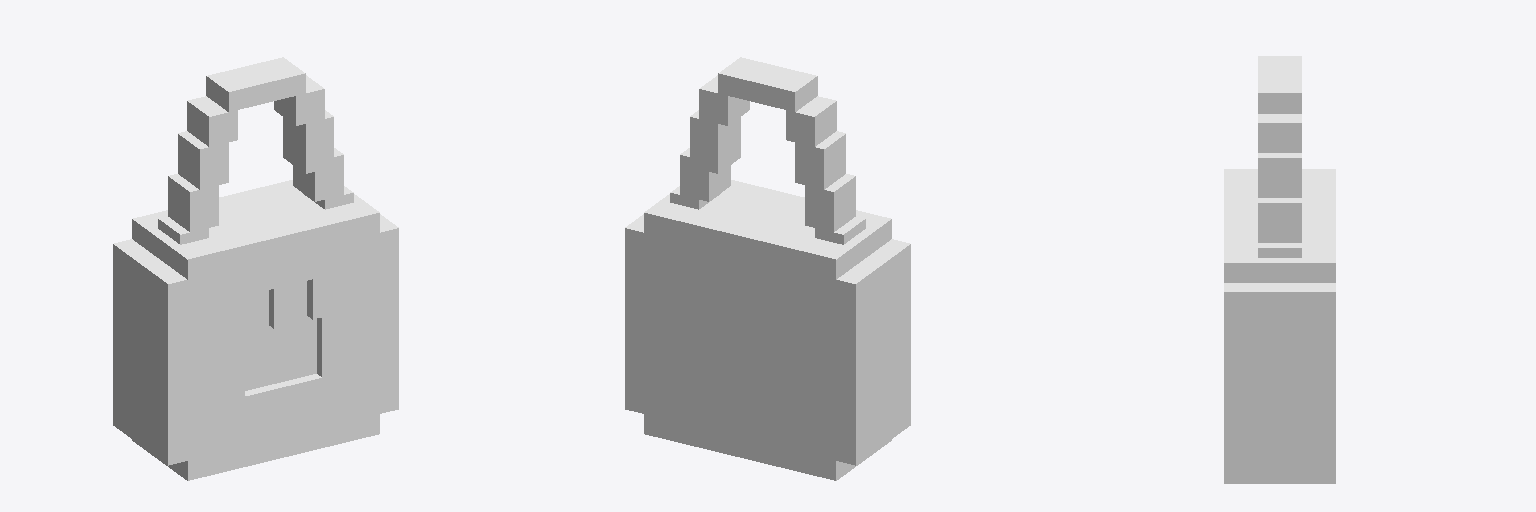
The model's file is 자물쇠.obj.
3 views of the same model, side by side, from view 1: azimuth 30°, elevation 25°; view 2: azimuth 150°, elevation 25°; view 3: azimuth 270°, elevation 25° (orthographic).
Parts seen in each view (by area): view 1: 자물쇠; view 2: 자물쇠; view 3: 자물쇠.
Part boxes in pixels (left/top/right/bottom): 자물쇠: left=113, top=57, right=398, bottom=480; 자물쇠: left=625, top=57, right=910, bottom=480; 자물쇠: left=1224, top=56, right=1335, bottom=483.
Size of the model in its own units: 24 by 36 by 10.